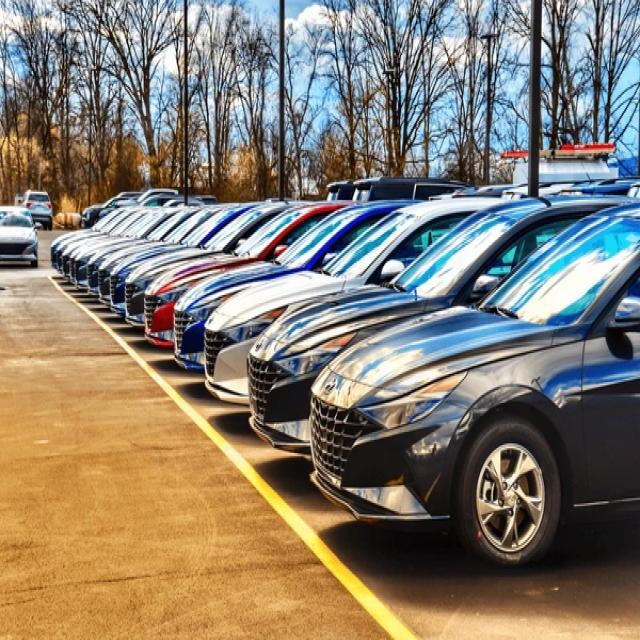hyundai: (322, 372, 338, 404)
